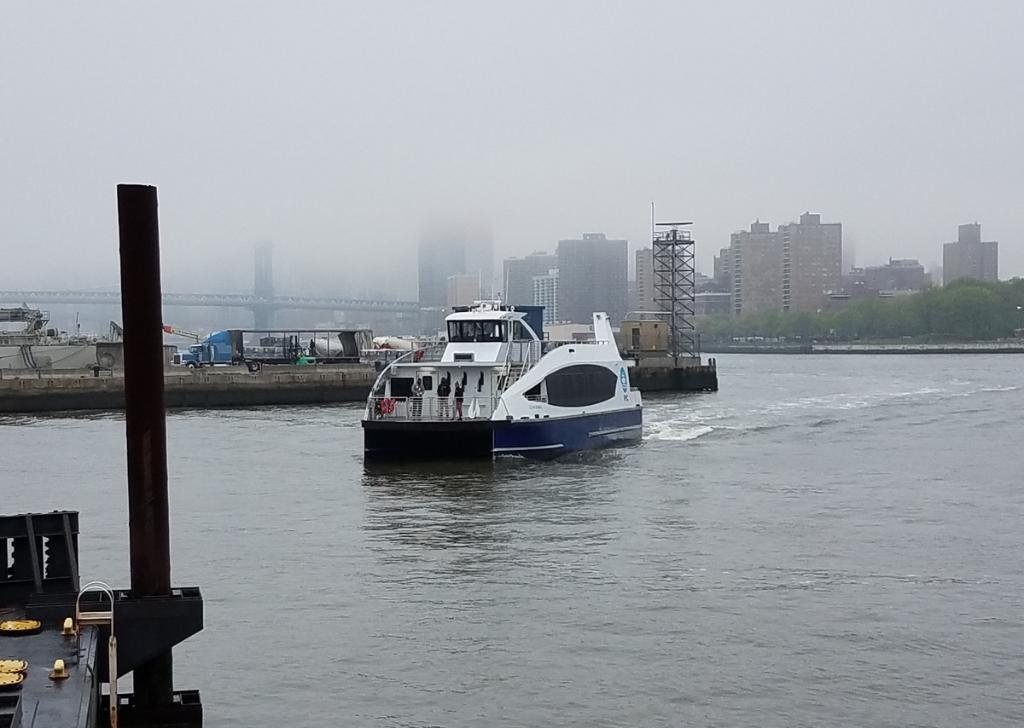PassengerShip: (344, 289, 666, 457)
